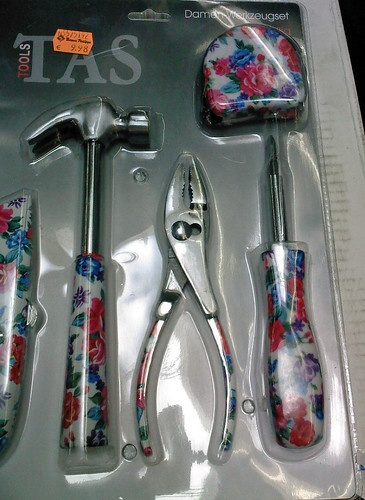hammer: (23, 97, 155, 459)
